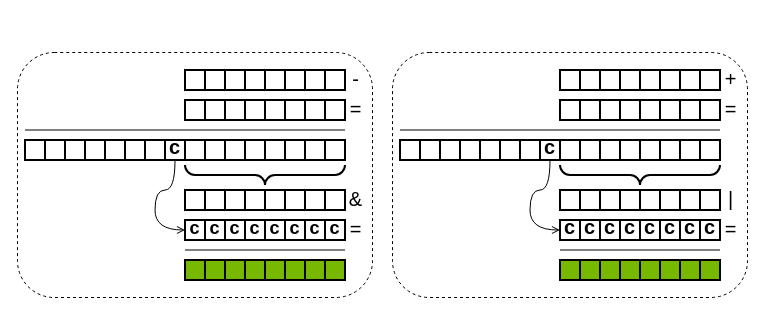
Some shapes in this 765 by 315 pixel diagram are drawn without their labels. The shapes that lost their labels are listed below. From the top down, each one's box as (x1, y1, x2, y2) in pixels, then its label:
(16, 52, 372, 298): Negative overflow detection:
(392, 52, 748, 298): Positive overflow detection:
